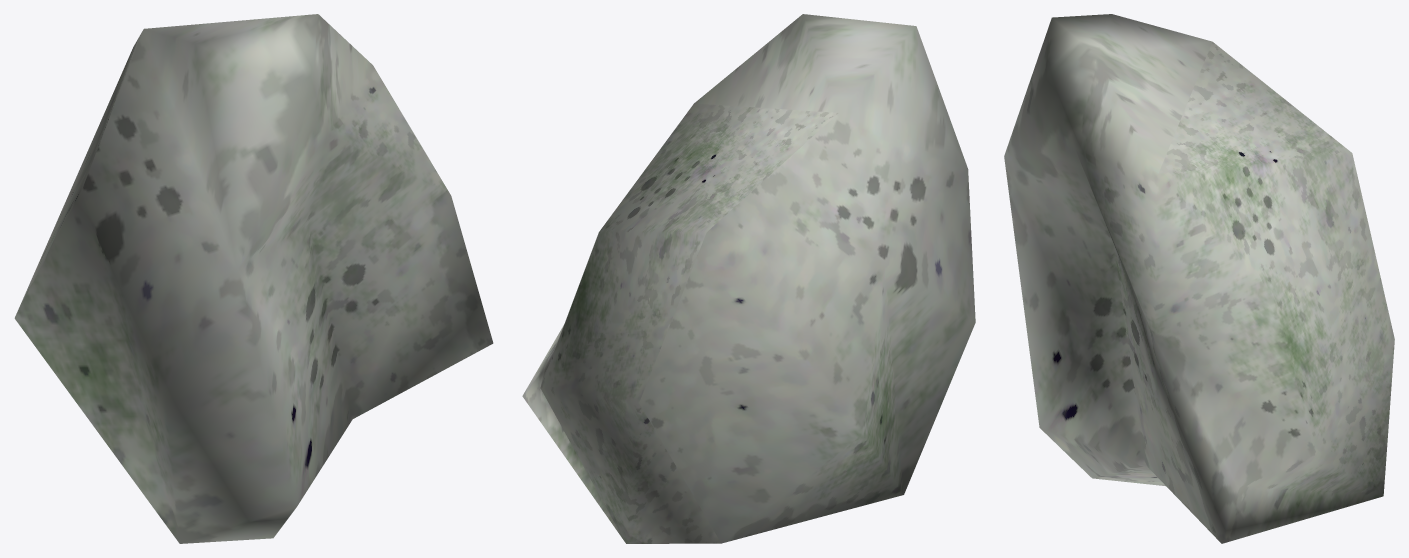
File: stone3.fbx
3 views of the same model, side by side, from view 1: azimuth 30°, elevation 25°; view 2: azimuth 150°, elevation 25°; view 3: azimuth 270°, elevation 25° (orthographic). The views are drawn at different scales.
Parts seen in each view (by area): view 1: pCube1; view 2: pCube1; view 3: pCube1.
Part boxes in pixels (x1,y1,x2,y2): pCube1: (14,14,493,543); pCube1: (522,14,975,543); pCube1: (1004,14,1394,543).
Bounding box in the file's own units: 19.75 × 22.27 × 17.77.
